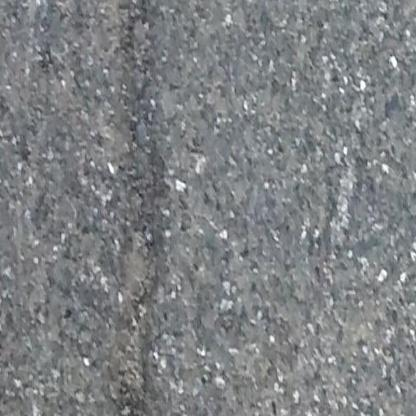Cracks: (117, 0, 177, 416)
